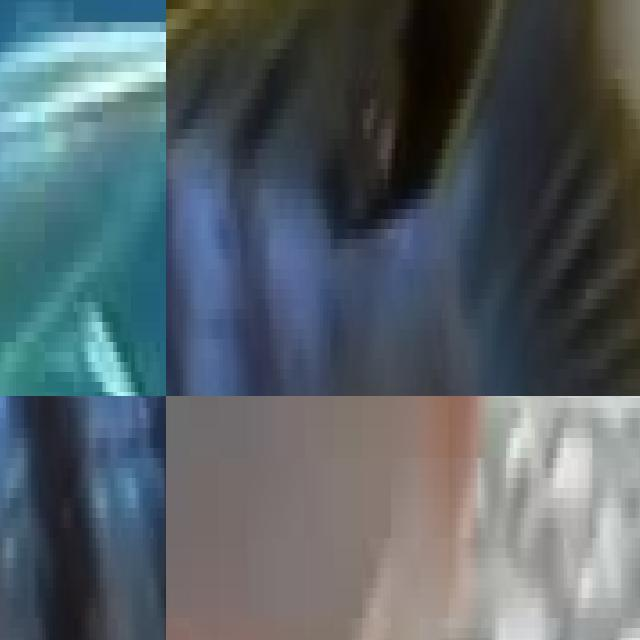fish: (166, 396, 640, 640), (0, 0, 166, 396)
